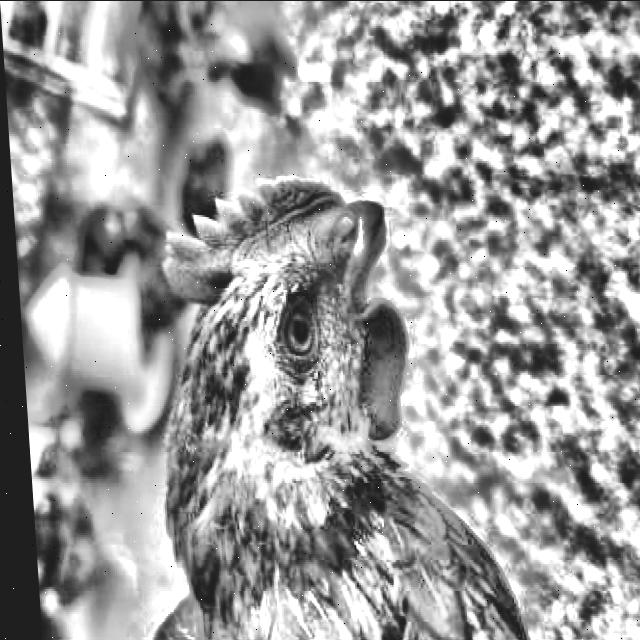Healthy: (264, 291, 339, 391)
